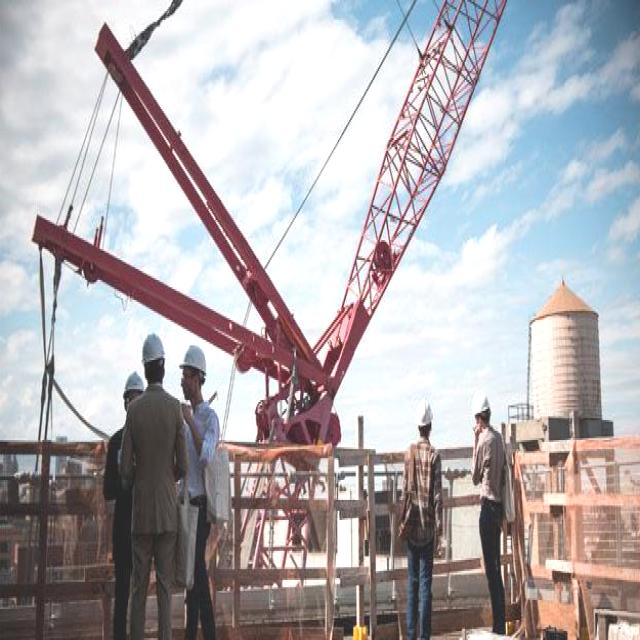head_helmet: (140, 333, 167, 362), (182, 345, 209, 371), (412, 402, 437, 427), (472, 391, 494, 413), (121, 372, 143, 394)
person: (129, 338, 174, 618), (100, 375, 144, 618), (402, 393, 444, 631), (470, 391, 506, 634), (186, 349, 216, 604)
